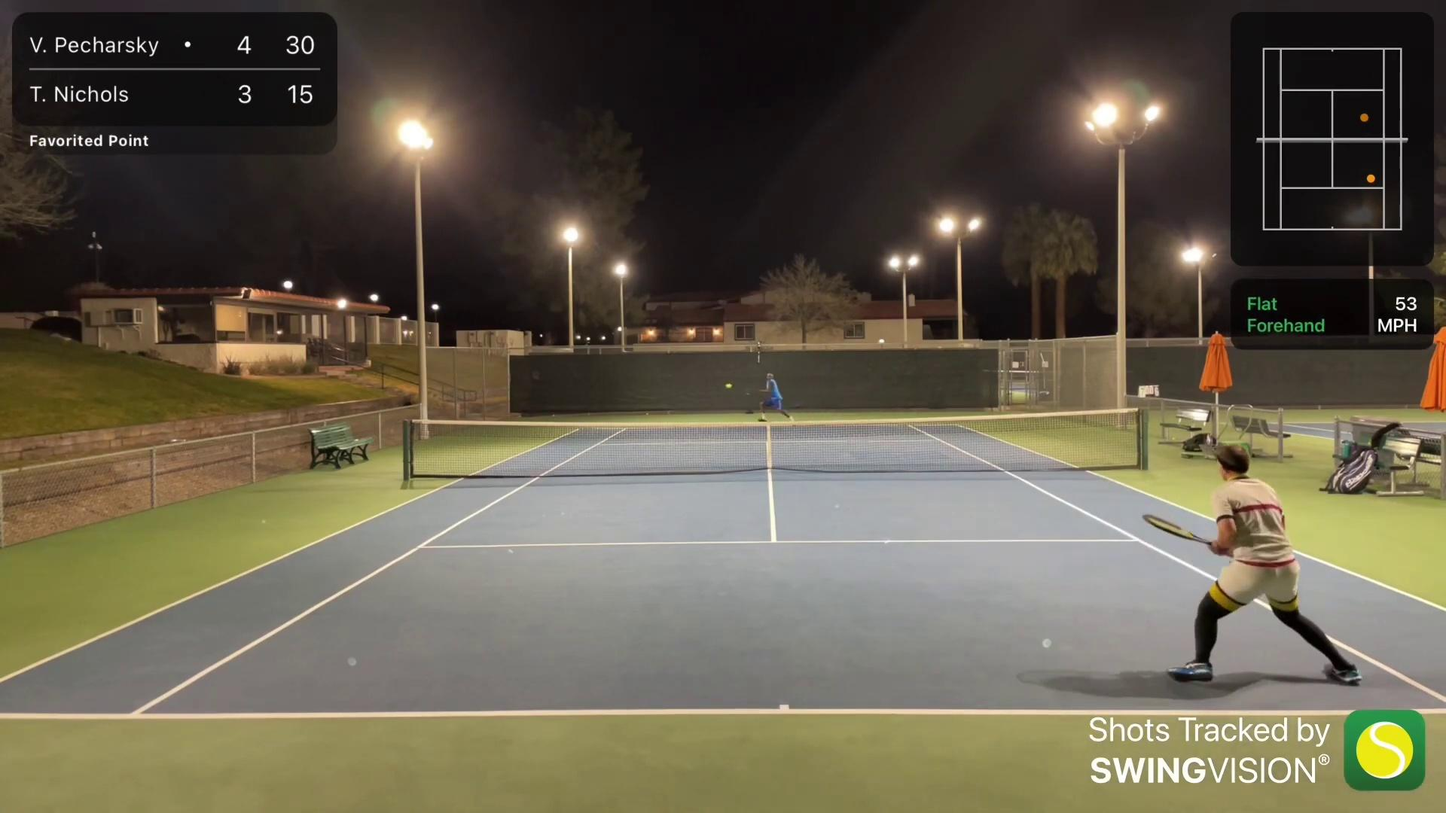ball: (723, 381, 734, 390)
